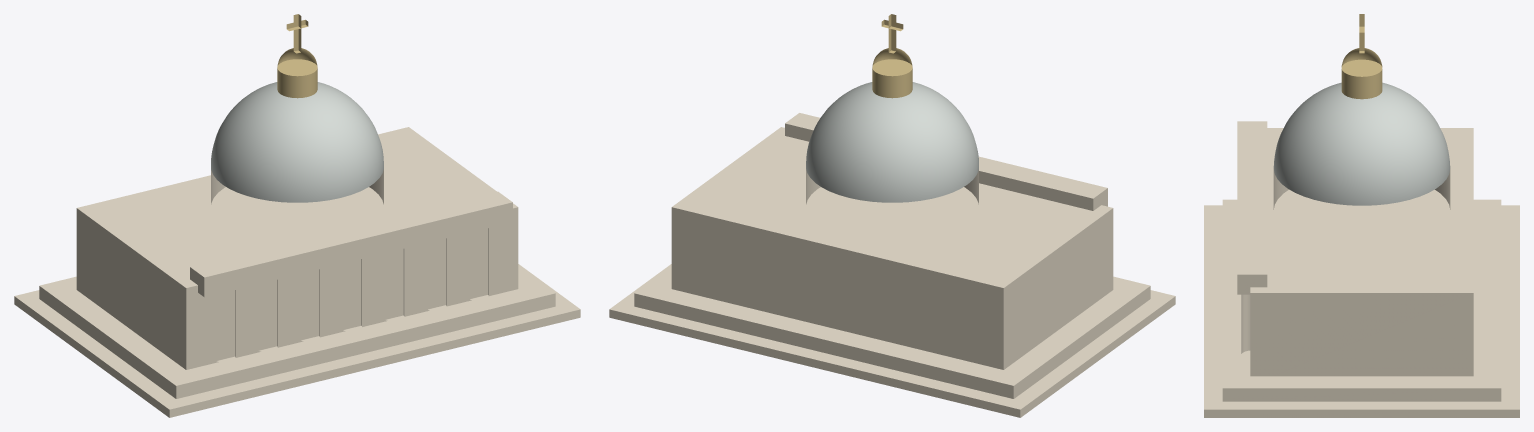
Rendered from basilika.glb.
The picture shows the model from 3 angles, left to right: view 1: azimuth 30°, elevation 25°; view 2: azimuth 150°, elevation 25°; view 3: azimuth 270°, elevation 25°; orthographic projection.
Visible parts, largest first — view 1: Basilika; view 2: Basilika; view 3: Basilika.
Boxes of the visible parts, x1=… form: Basilika: x1=14, y1=14, x2=580, y2=417; Basilika: x1=609, y1=14, x2=1175, y2=417; Basilika: x1=1204, y1=14, x2=1519, y2=417.
Size of the model in its own units: 5.2 by 3.57 by 3.4.
